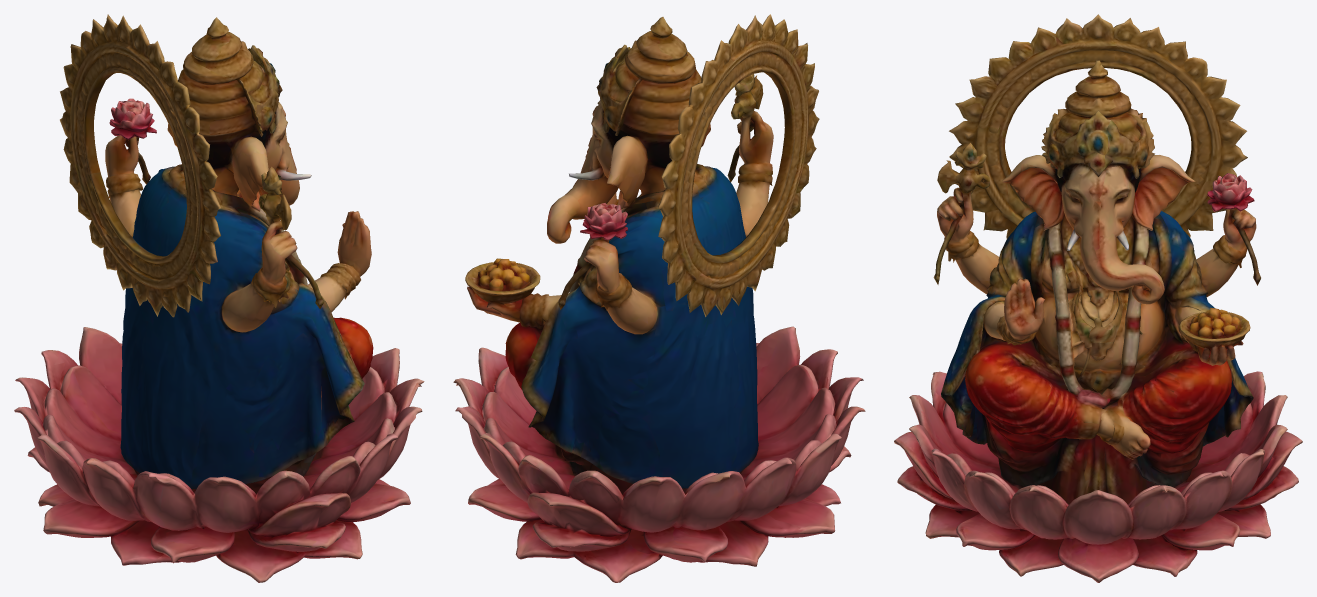
File: ganesha-mobile.glb
The picture shows the model from 3 angles, left to right: view 1: azimuth 30°, elevation 25°; view 2: azimuth 150°, elevation 25°; view 3: azimuth 270°, elevation 25°; orthographic projection. The views are drawn at different scales.
Parts seen in each view (by area): view 1: tripo_node_0ea4a065-78b1-4ebe-a17f-bbc6f43bdf31; view 2: tripo_node_0ea4a065-78b1-4ebe-a17f-bbc6f43bdf31; view 3: tripo_node_0ea4a065-78b1-4ebe-a17f-bbc6f43bdf31.
Boxes of the visible parts, bbox=[...] form: tripo_node_0ea4a065-78b1-4ebe-a17f-bbc6f43bdf31: bbox=[14, 14, 424, 582]; tripo_node_0ea4a065-78b1-4ebe-a17f-bbc6f43bdf31: bbox=[453, 14, 865, 582]; tripo_node_0ea4a065-78b1-4ebe-a17f-bbc6f43bdf31: bbox=[894, 14, 1302, 582].
Size of the model in its own units: 0.7553 by 1 by 0.7914.
Materials: 1 (1 with a texture image).
